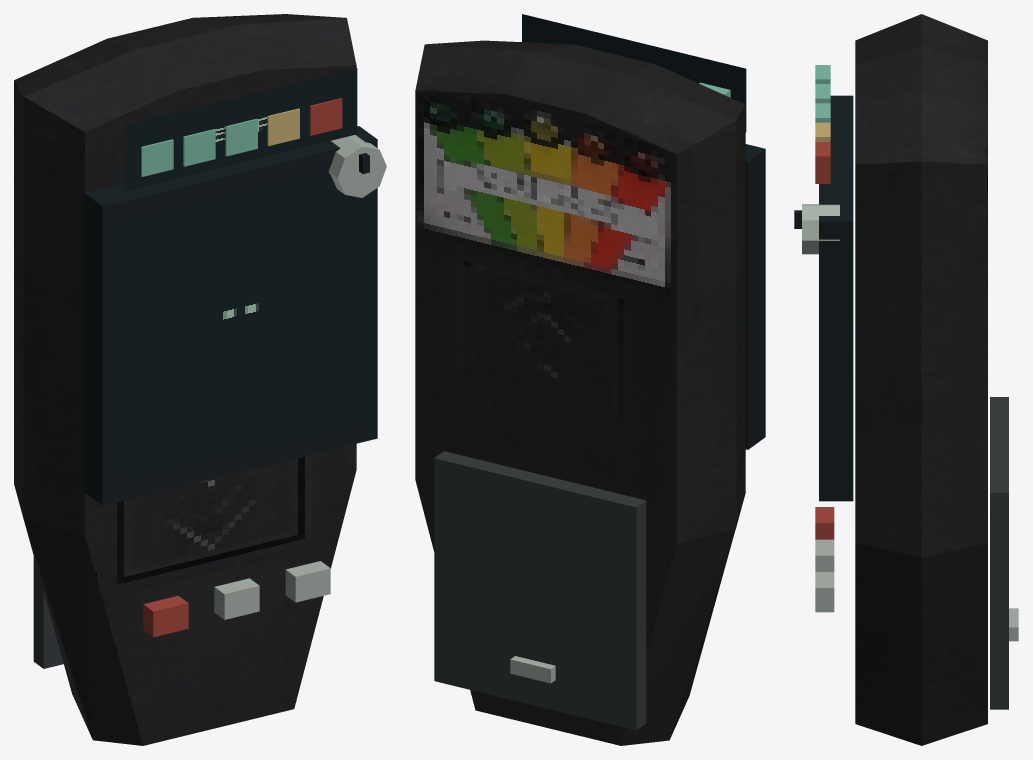
File: blender_emf_reader_2.glb
The picture shows the model from 3 angles, left to right: view 1: azimuth 30°, elevation 25°; view 2: azimuth 150°, elevation 25°; view 3: azimuth 270°, elevation 25°; orthographic projection. The views are drawn at different scales.
Parts seen in each view (by area): view 1: blender_emf_reader_2; view 2: blender_emf_reader_2; view 3: blender_emf_reader_2.
Part boxes in pixels (x1,y1,x2,y2): blender_emf_reader_2: (14, 14, 386, 745); blender_emf_reader_2: (415, 14, 765, 745); blender_emf_reader_2: (794, 14, 1018, 745).
Bounding box in the file's own units: 0.092 × 0.185 × 0.059.
1 material, 1 textured.
